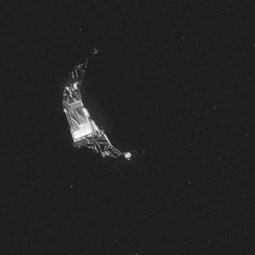lisa_pathfinder: (47, 48, 185, 166)
